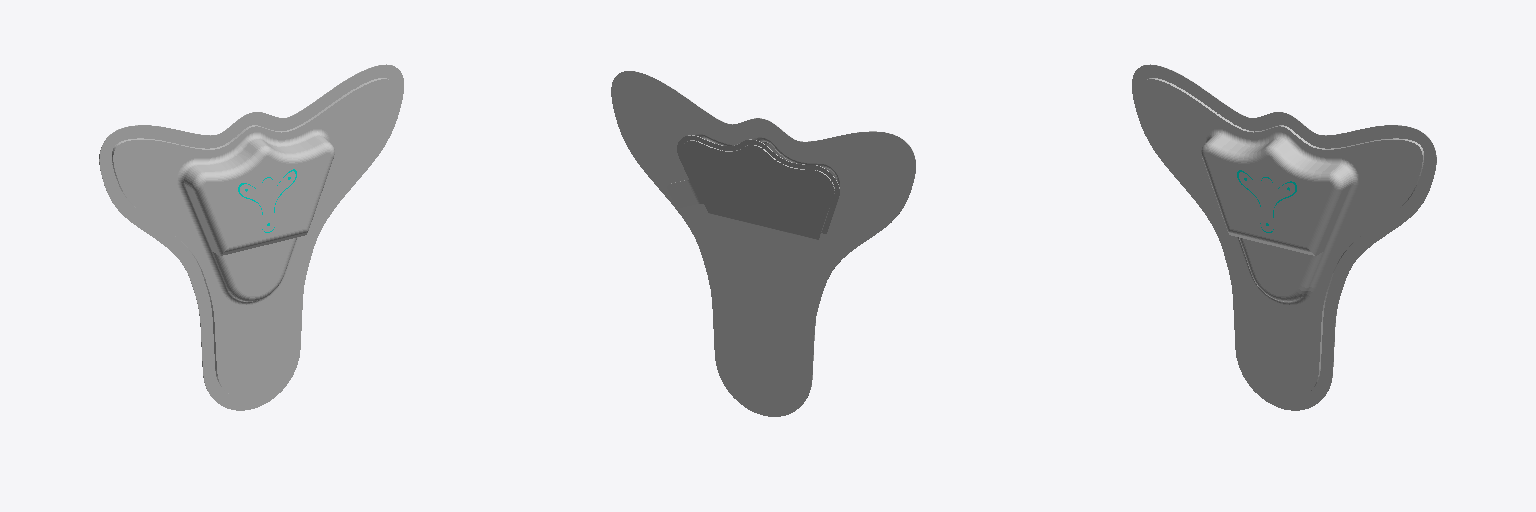
The picture shows the model from 3 angles: view 1: azimuth 30°, elevation 25°; view 2: azimuth 150°, elevation 25°; view 3: azimuth 330°, elevation 25°; orthographic projection.
Parts seen in each view (by area): view 1: VS-100-E3; view 2: VS-100-E3; view 3: VS-100-E3.
Boxes of the visible parts, x1,y1,x2,y2 form: VS-100-E3: [99, 64, 403, 410]; VS-100-E3: [611, 71, 915, 416]; VS-100-E3: [1132, 64, 1436, 410].
Bounding box in the file's own units: 1.25 × 1.23 × 0.1835.
2 materials, 1 textured.